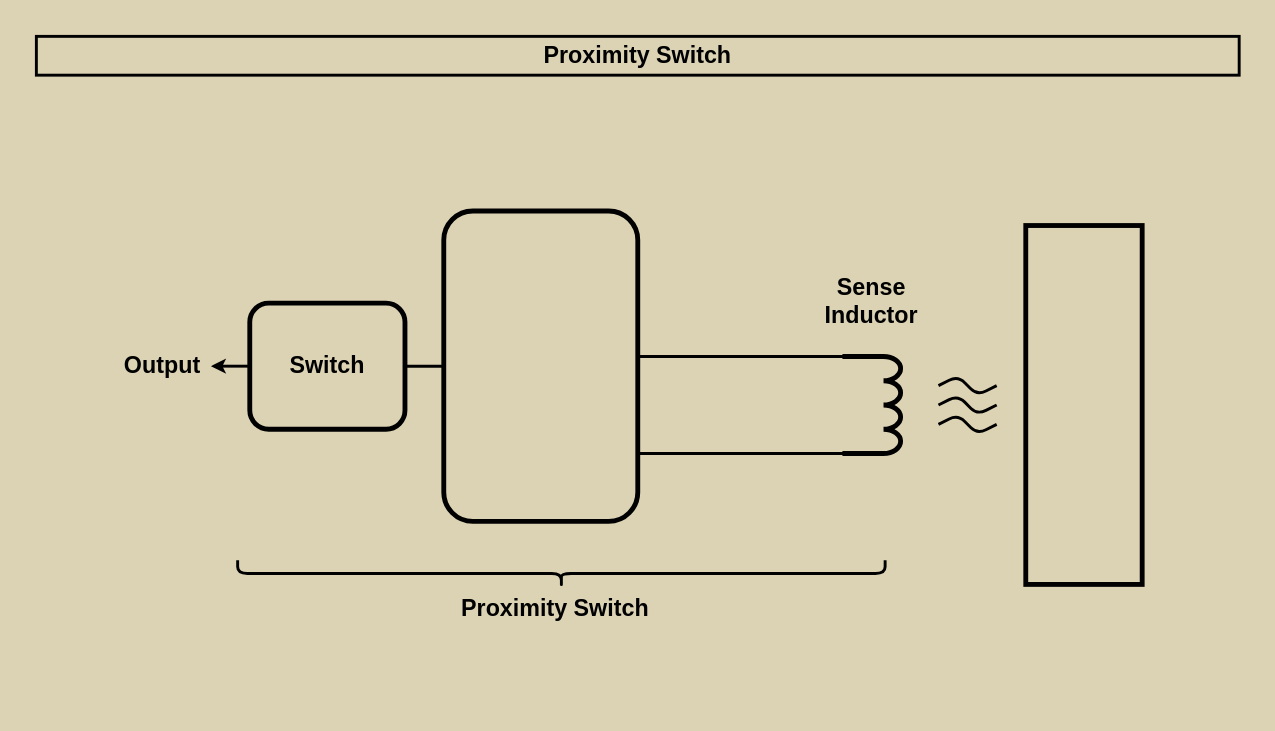
This 1275x731 diagram has some shape labels left out. Here are the shapes that lost their labels. From the top down, the centre of each, then its label:
the point at 540,365: Oscillator Circuit
the point at 1083,404: Metal
